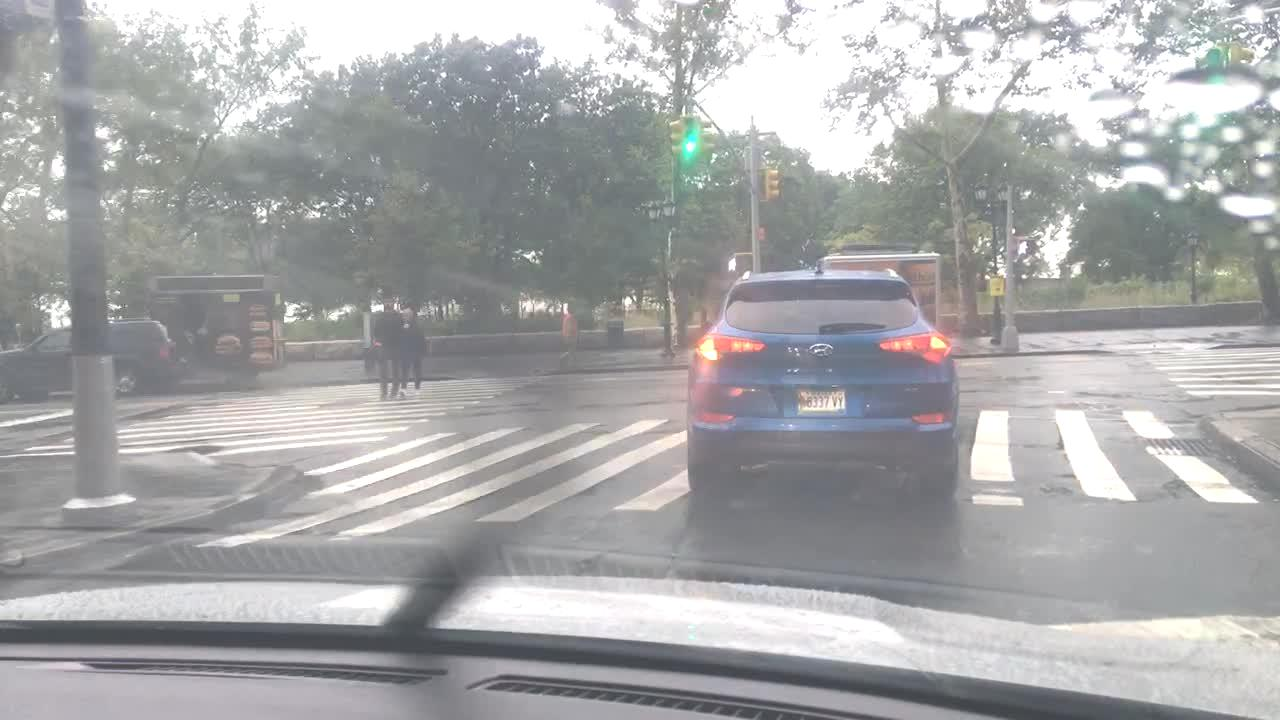Hyundai: (799, 340, 843, 361)
